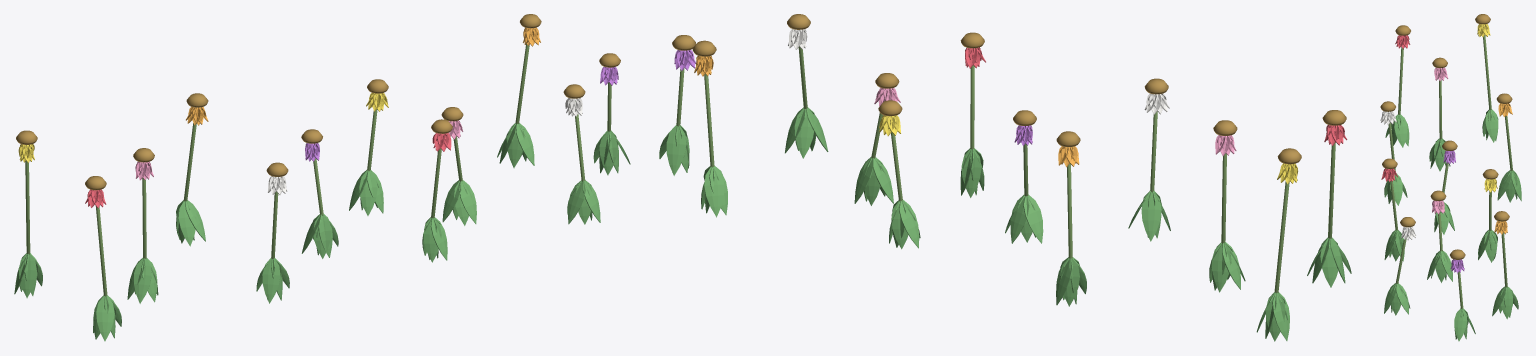
Rendered from flowerbed.glb.
3 renders of one model, left to right at view 1: azimuth 30°, elevation 25°; view 2: azimuth 150°, elevation 25°; view 3: azimuth 270°, elevation 25°, orthographic. The views are drawn at different scales.
Parts seen in each view (by area): view 1: canteiro; view 2: canteiro; view 3: canteiro.
Part boxes in pixels (<box>): canteiro: <box>14,14,630,341</box>; canteiro: <box>659,14,1351,341</box>; canteiro: <box>1380,14,1521,341</box>.
Bounding box in the file's own units: 1.88 × 0.5049 × 0.5304.
